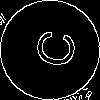C: (25, 25, 78, 71)
